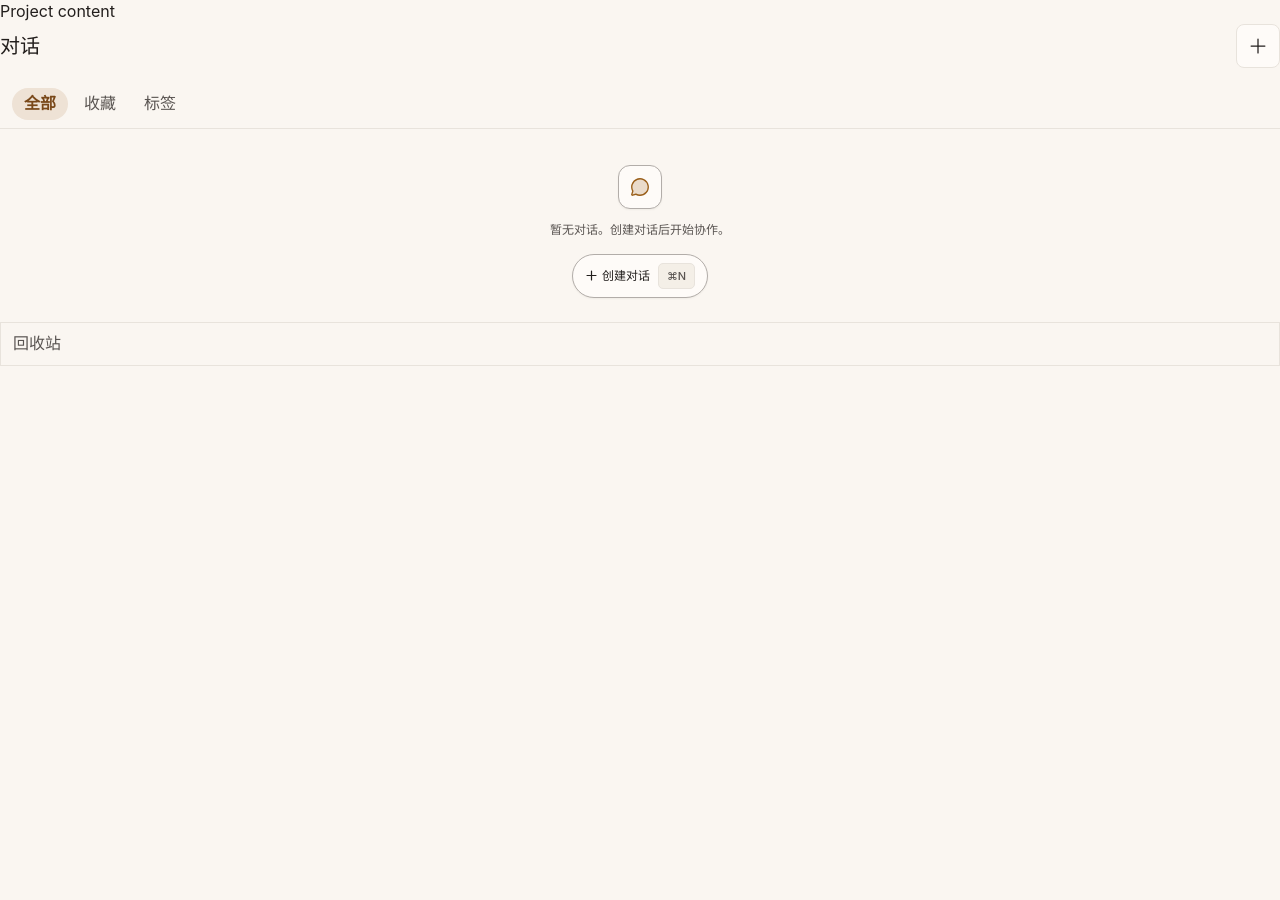
Test case: persistent project thread list and creation › reconciles an unknown create by operation without resending
expect the text "暂无对话。创建对话后开始协作。" is shown: met, box x1=550 y1=220 x2=730 y2=238
Click the button "创建对话 ⌘N": (640, 276) x1=572 y1=254 x2=708 y2=298
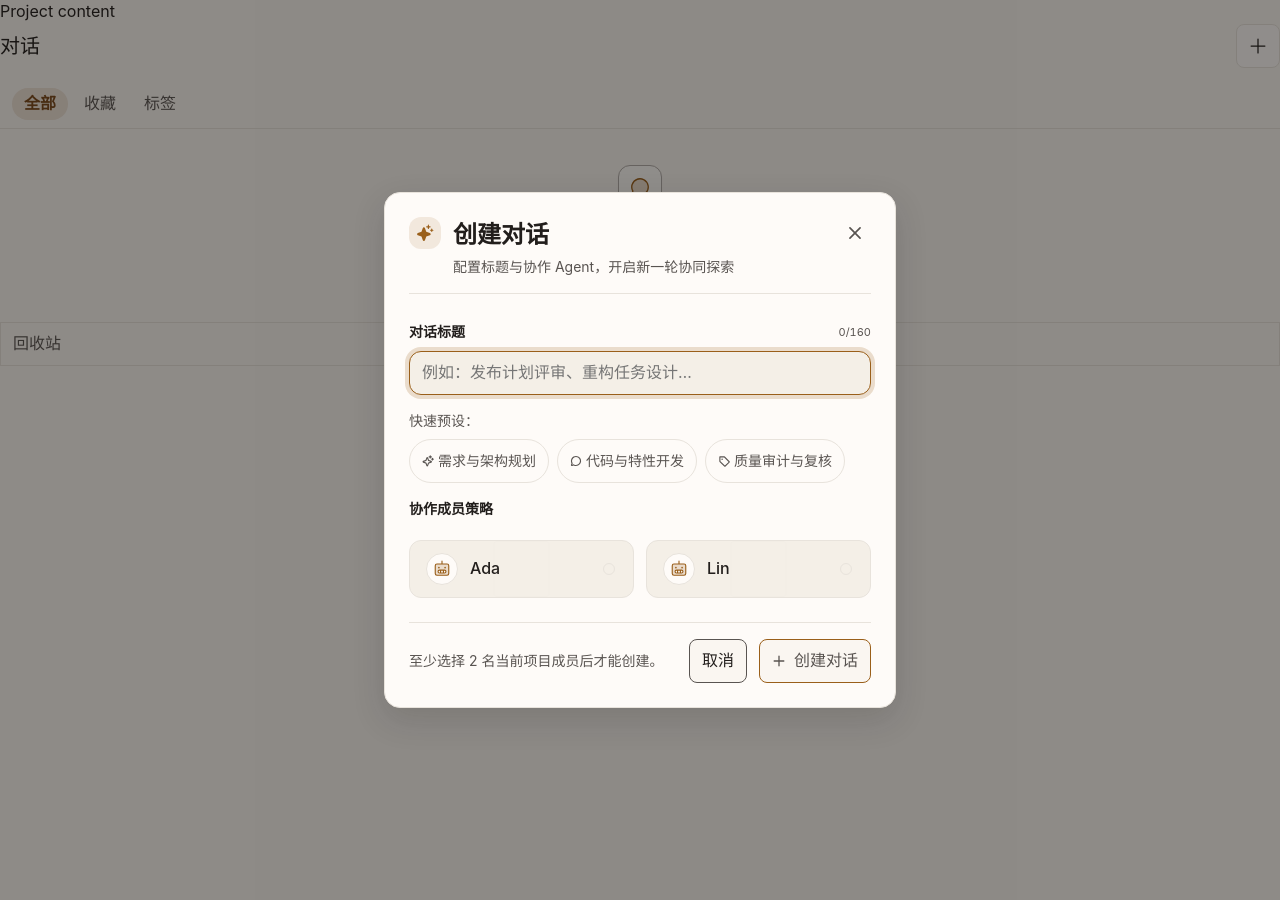
In the field labelled "对话标题": (640, 373) x1=409 y1=351 x2=871 y2=395, type "Reconciled"
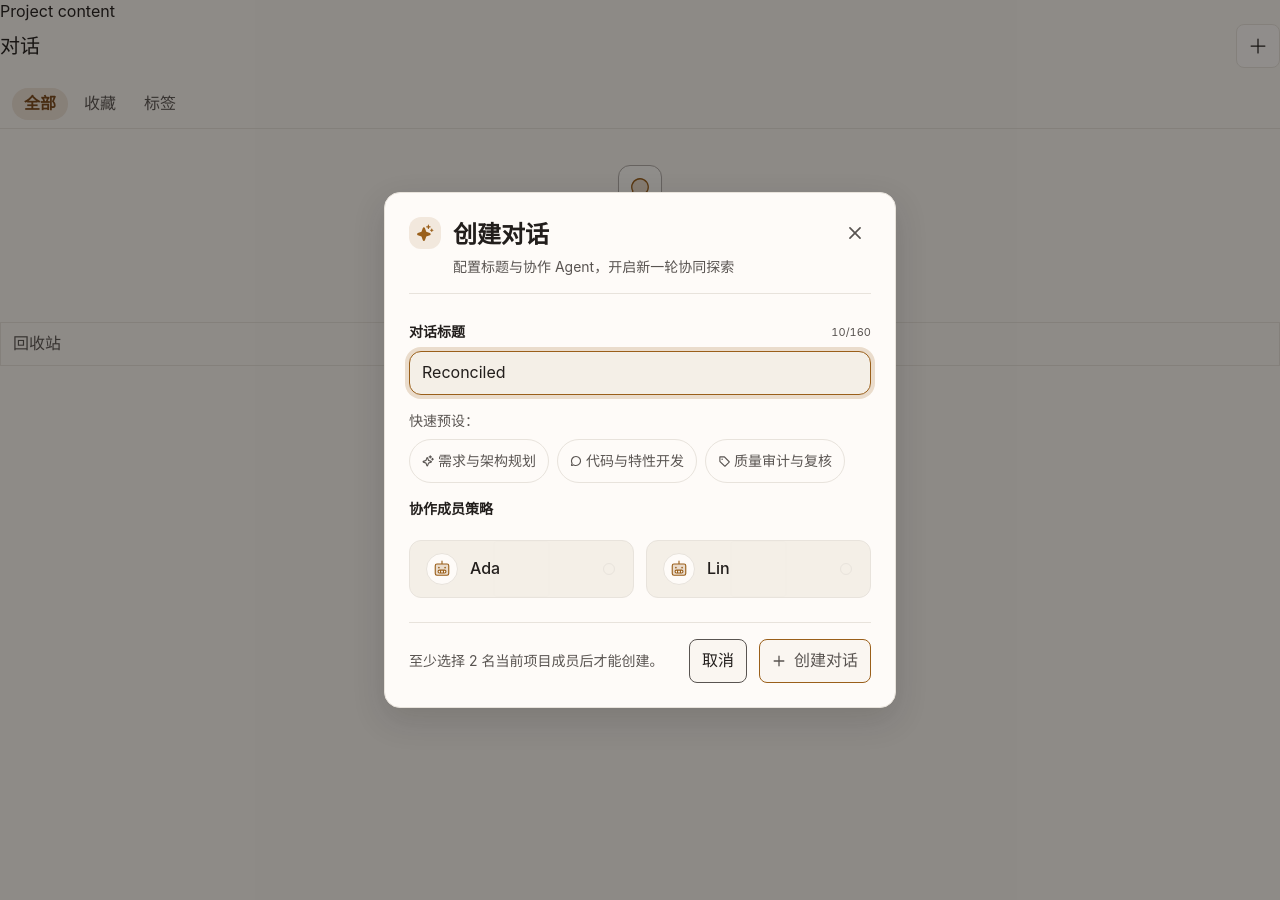
Click the checkbox labelled "Ada": (522, 569) x1=410 y1=541 x2=633 y2=597
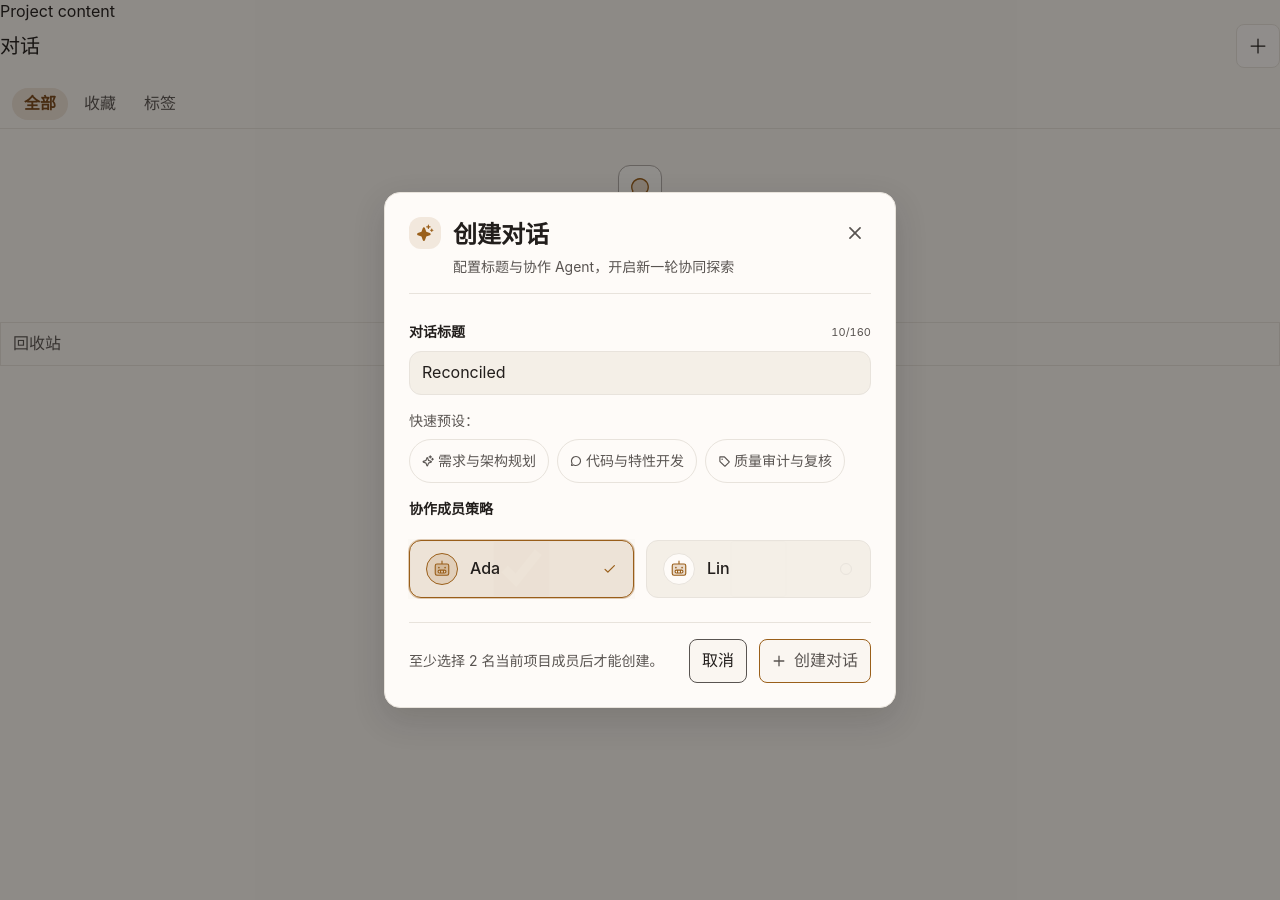
Click the checkbox labelled "Lin": (758, 569) x1=647 y1=541 x2=870 y2=597
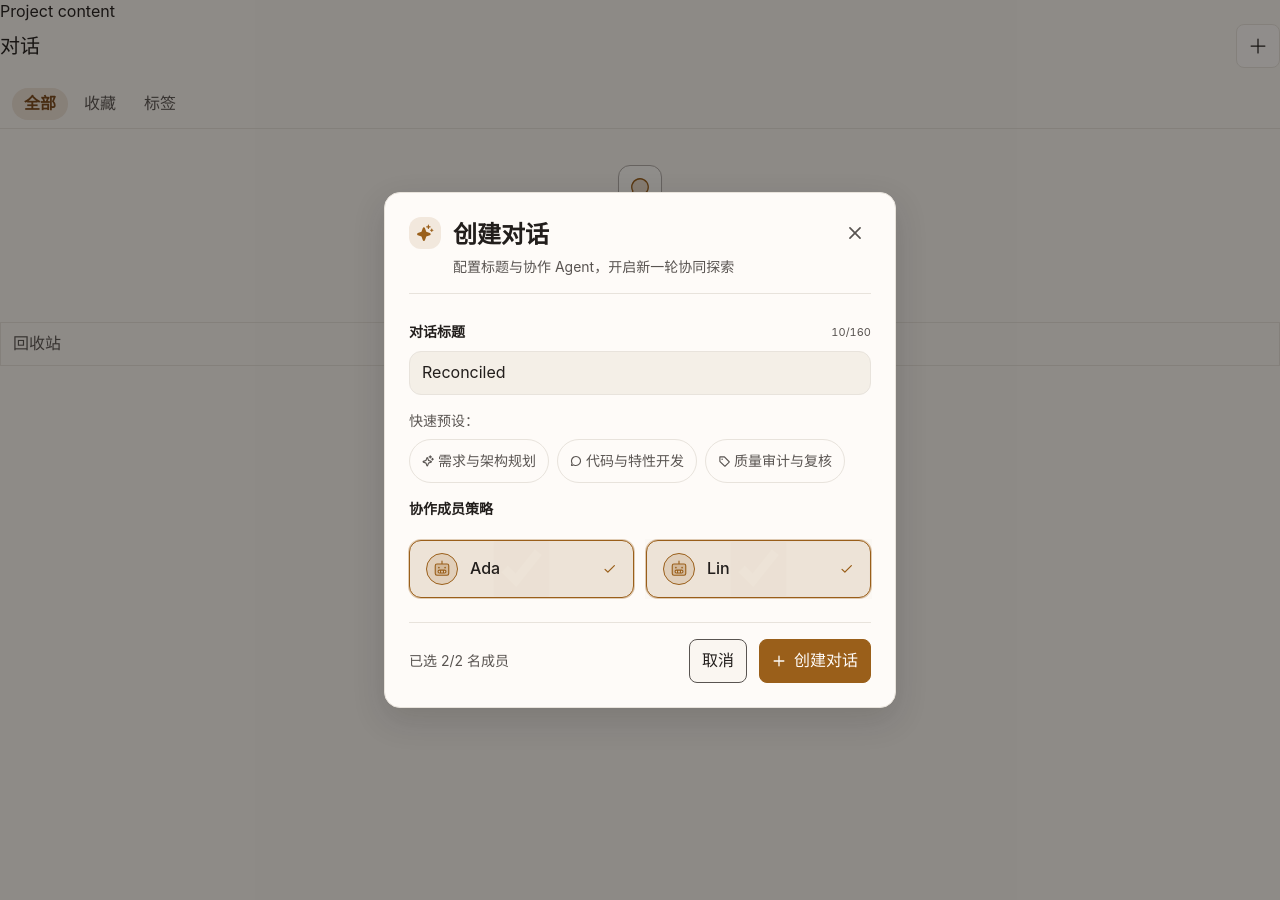
Click the button "创建对话": (815, 661) x1=759 y1=639 x2=871 y2=683
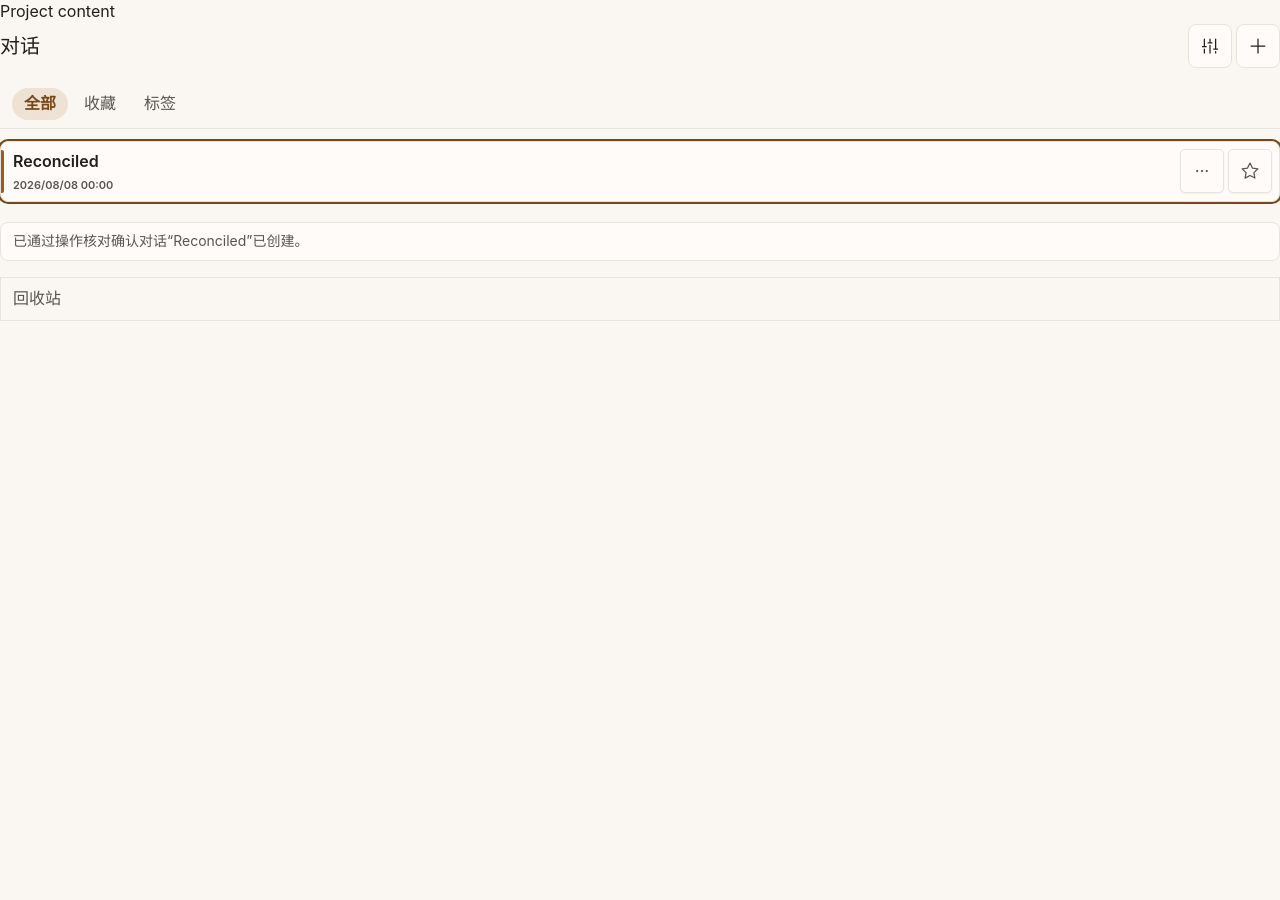
expect the text "已通过操作核对确认对话“Reconciled”已创建。" is shown: met, box x1=0 y1=222 x2=1279 y2=261
